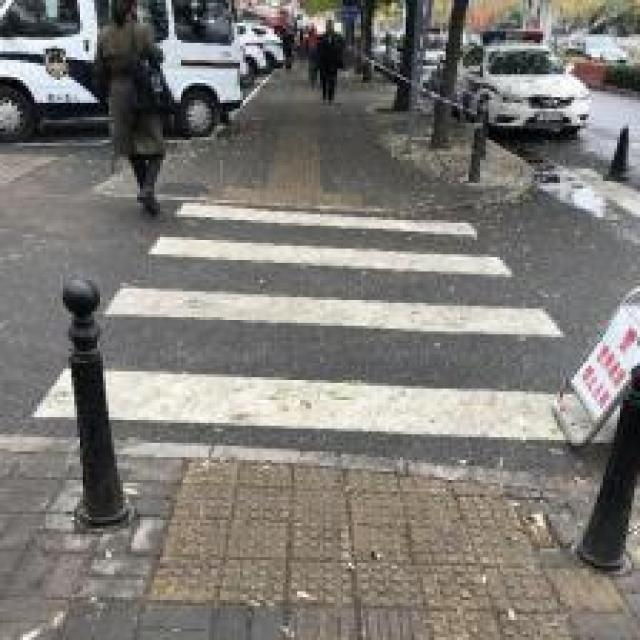crosswalk: (31, 196, 624, 449)
